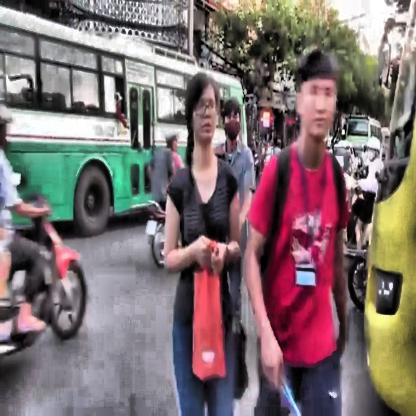not_wear: (296, 48, 336, 141), (186, 74, 216, 144), (224, 96, 240, 141)
